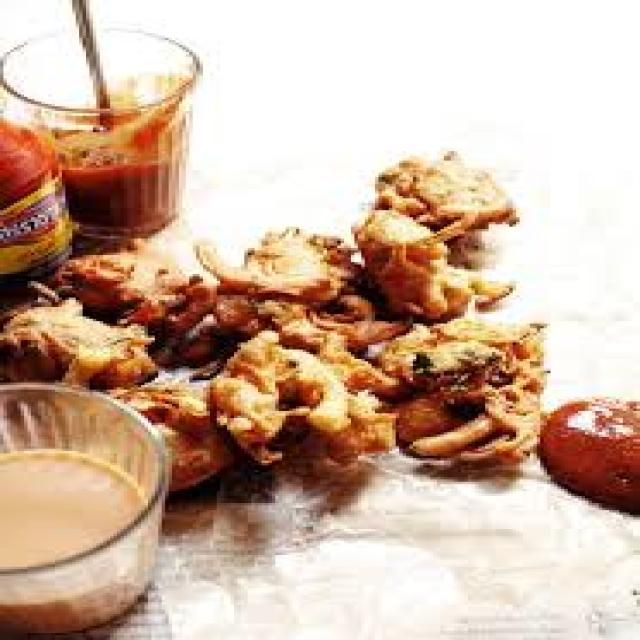BAJI: (333, 317, 537, 489), (350, 154, 514, 314), (232, 324, 375, 462), (224, 206, 375, 317), (85, 262, 227, 361), (0, 306, 151, 386), (143, 395, 219, 480)
